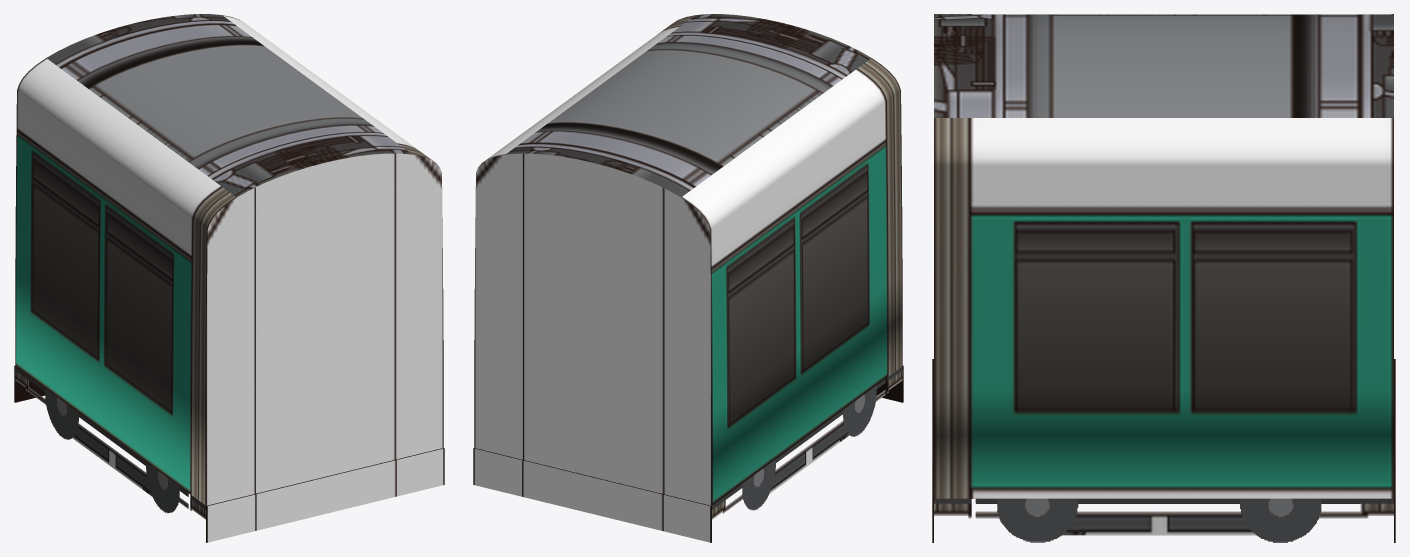
The model's file is car3.glb.
3 views of the same model, side by side, from view 1: azimuth 30°, elevation 25°; view 2: azimuth 150°, elevation 25°; view 3: azimuth 270°, elevation 25° (orthographic). The views are drawn at different scales.
Parts seen in each view (by area): view 1: hiroden-5100-car3; view 2: hiroden-5100-car3; view 3: hiroden-5100-car3.
Boxes of the visible parts, x1,y1,x2,y2 form: hiroden-5100-car3: (14, 14, 444, 542); hiroden-5100-car3: (473, 14, 903, 542); hiroden-5100-car3: (932, 14, 1395, 542).
Size of the model in its own units: 2.45 by 3.45 by 3.43.
9 materials, 8 textured.
